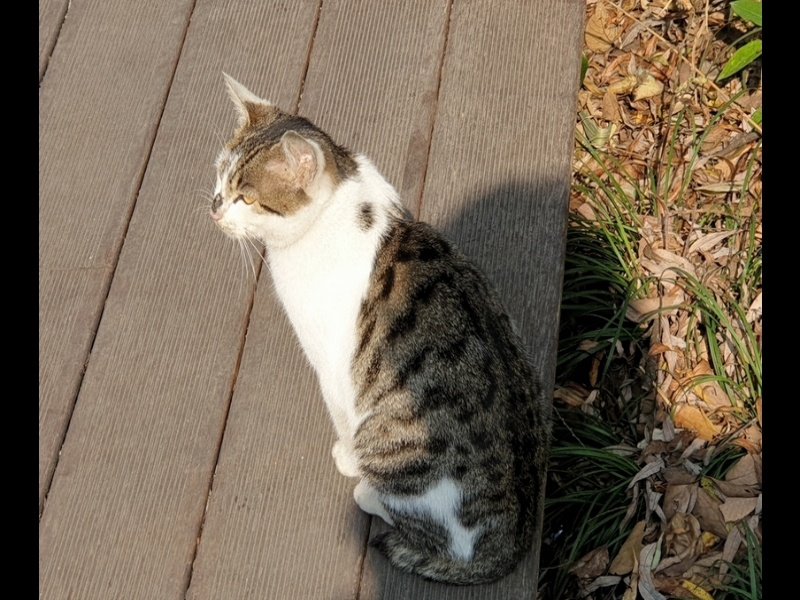cat: (203, 66, 544, 588)
